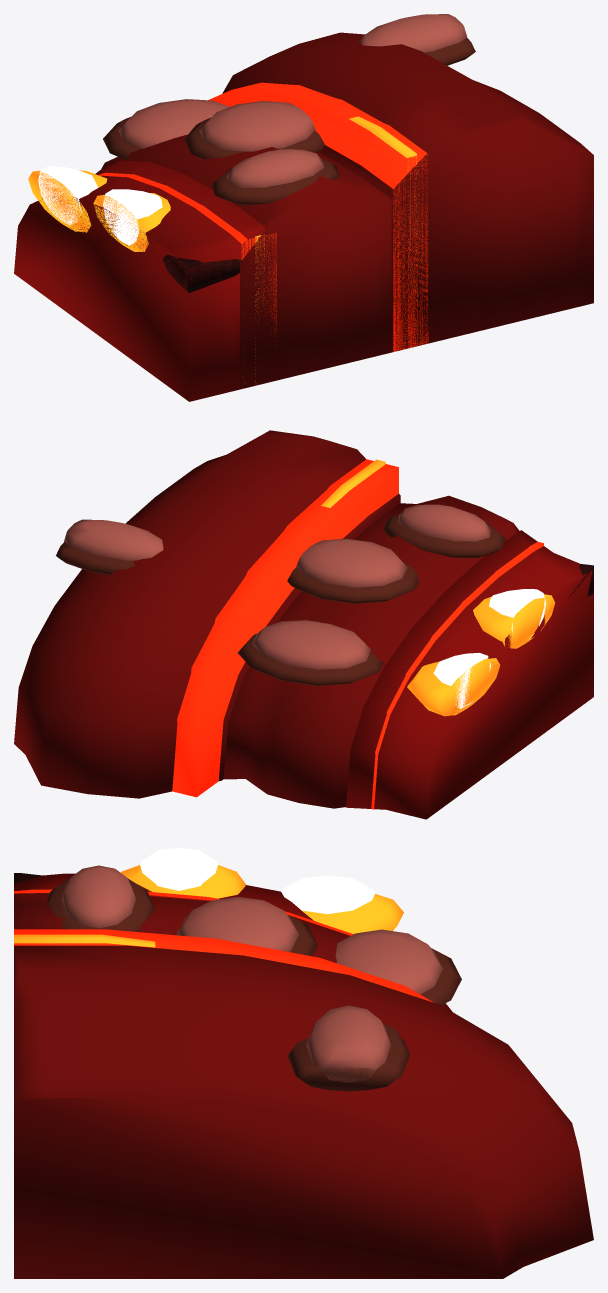
Rendered from newshe-79.glb.
The picture shows the model from 3 angles, top to bottom: view 1: azimuth 30°, elevation 25°; view 2: azimuth 150°, elevation 25°; view 3: azimuth 270°, elevation 25°; orthographic projection. The views are drawn at different scales.
Parts seen in each view (by area): view 1: newshe-79; view 2: newshe-79; view 3: newshe-79.
Part boxes in pixels (<box>): newshe-79: <box>14,14,593,401</box>; newshe-79: <box>14,430,593,819</box>; newshe-79: <box>14,848,593,1278</box>.
Size of the model in its own units: 2 by 0.9509 by 2.05.
